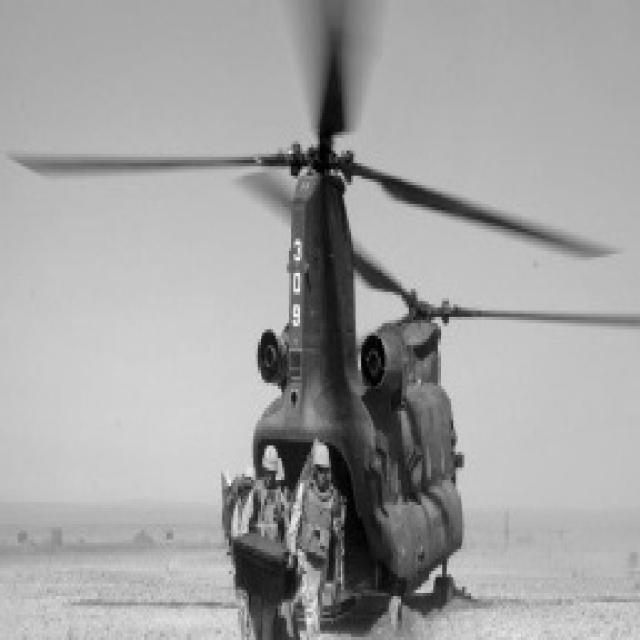Helicopter: (17, 30, 640, 638)
